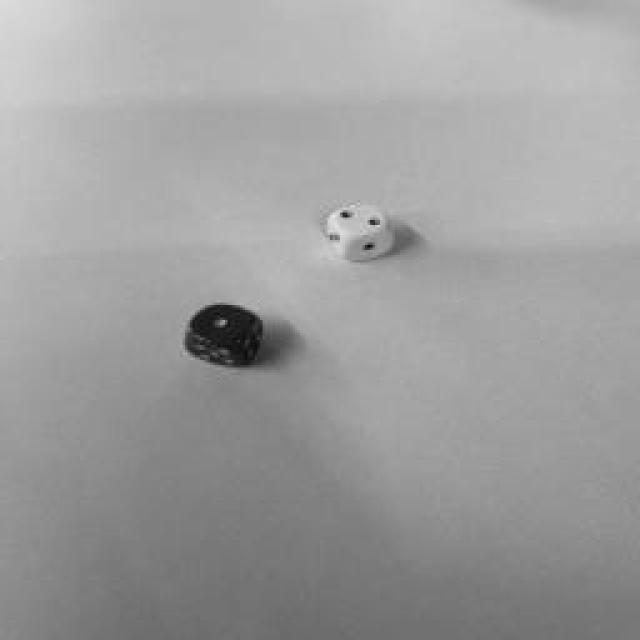dice_1: (189, 304, 251, 344)
dice_2: (332, 205, 388, 235)
